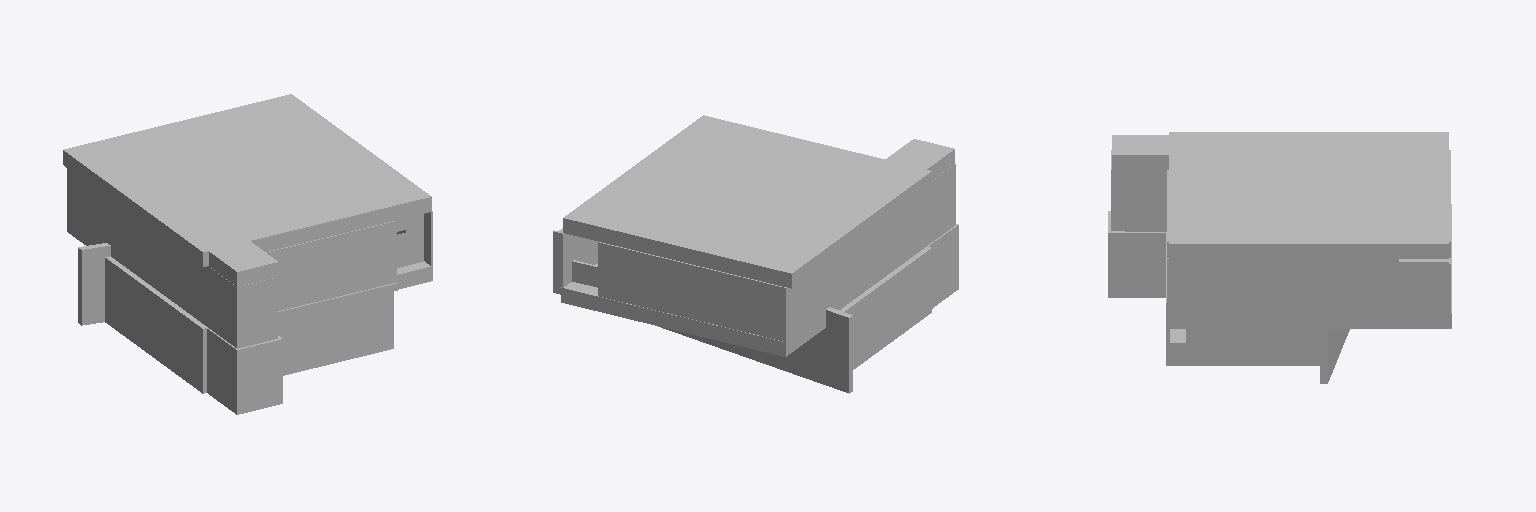
Rendered from Lab inicial v10.obj.
The picture shows the model from 3 angles: view 1: azimuth 30°, elevation 25°; view 2: azimuth 150°, elevation 25°; view 3: azimuth 270°, elevation 25°; orthographic projection.
Visible parts, largest first — view 1: f, Body23, Body31, Body27; view 2: f, Body23, Body27, Body29, Body31; view 3: f, Body23, Body29, Body31.
Part boxes in pixels (bbox=[...]): f: bbox=[63, 94, 432, 348]; Body23: bbox=[78, 256, 397, 411]; Body31: bbox=[78, 319, 393, 414]; Body27: bbox=[67, 217, 432, 281]; f: bbox=[553, 115, 955, 341]; Body23: bbox=[683, 224, 958, 390]; Body27: bbox=[561, 263, 825, 349]; Body29: bbox=[561, 295, 825, 356]; Body31: bbox=[658, 287, 958, 393]; f: bbox=[1111, 132, 1450, 324]; Body23: bbox=[1108, 211, 1348, 380]; Body29: bbox=[1167, 321, 1451, 328]; Body31: bbox=[1108, 295, 1349, 383].
Bounding box in the file's own units: 18.1 × 9.42 × 20.71.